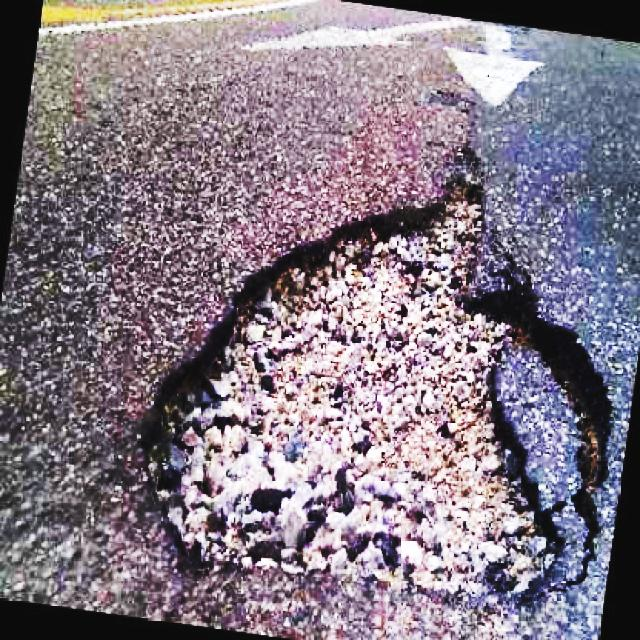pothole: (134, 146, 615, 608)
